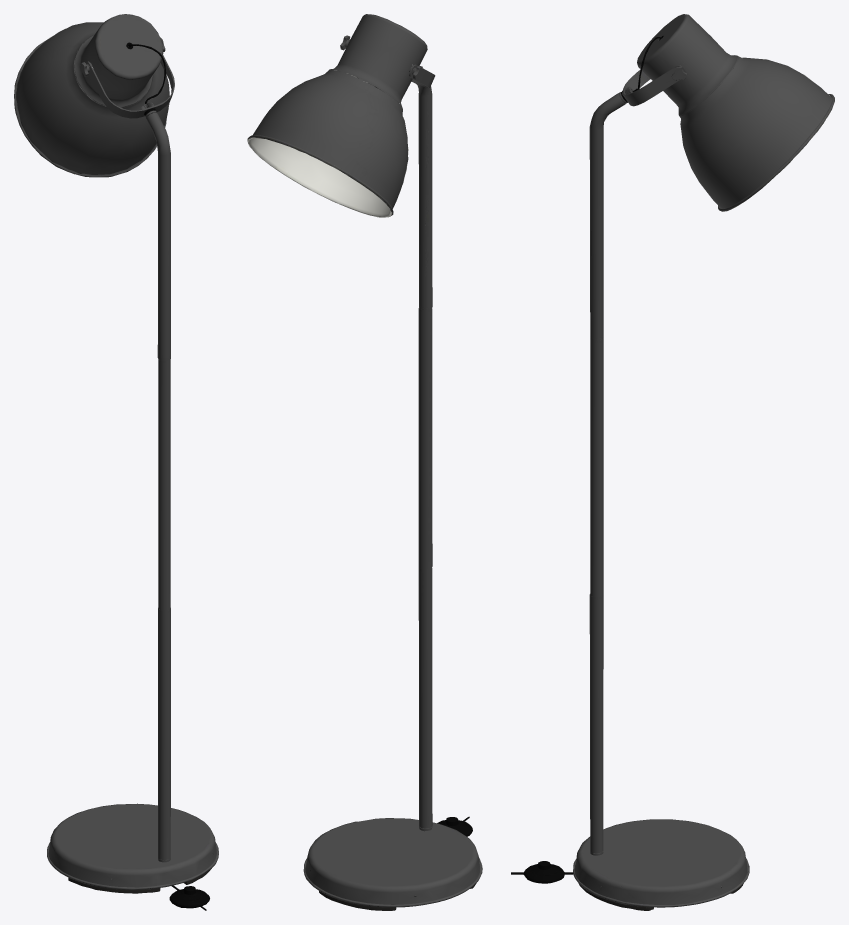
The model's file is HEKTAR floor lamp.glb.
3 renders of one model, left to right at view 1: azimuth 30°, elevation 25°; view 2: azimuth 150°, elevation 25°; view 3: azimuth 270°, elevation 25°, orthographic. The views are drawn at different scales.
Visible parts, largest first — view 1: 00215307-HEKTAR001; view 2: 00215307-HEKTAR001; view 3: 00215307-HEKTAR001.
Part boxes in pixels (box(x1,y1,x2,y2)): 00215307-HEKTAR001: box(14, 14, 218, 910); 00215307-HEKTAR001: box(247, 14, 482, 910); 00215307-HEKTAR001: box(511, 14, 834, 910).
Bounding box in the file's own units: 0.3584 × 1.83 × 0.6272.
1 material, 1 textured.
